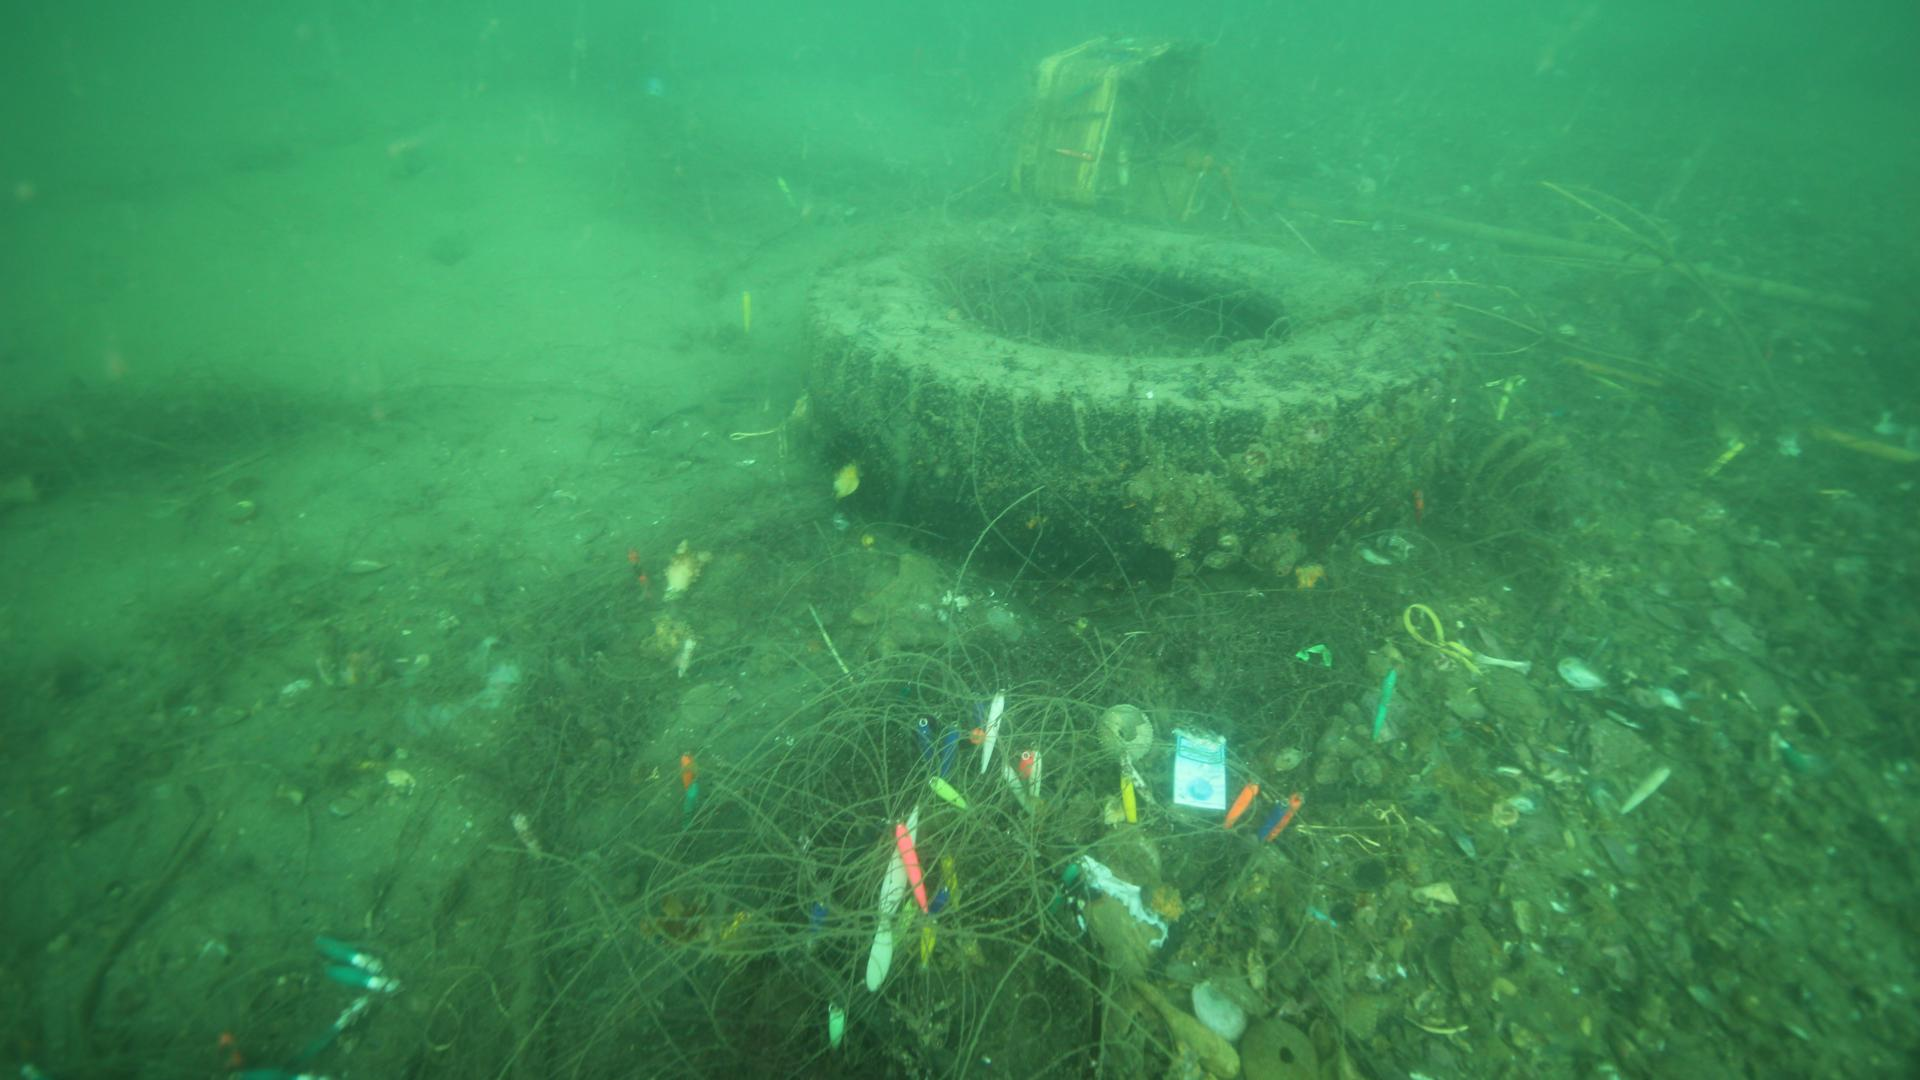tire: (814, 214, 1472, 568)
